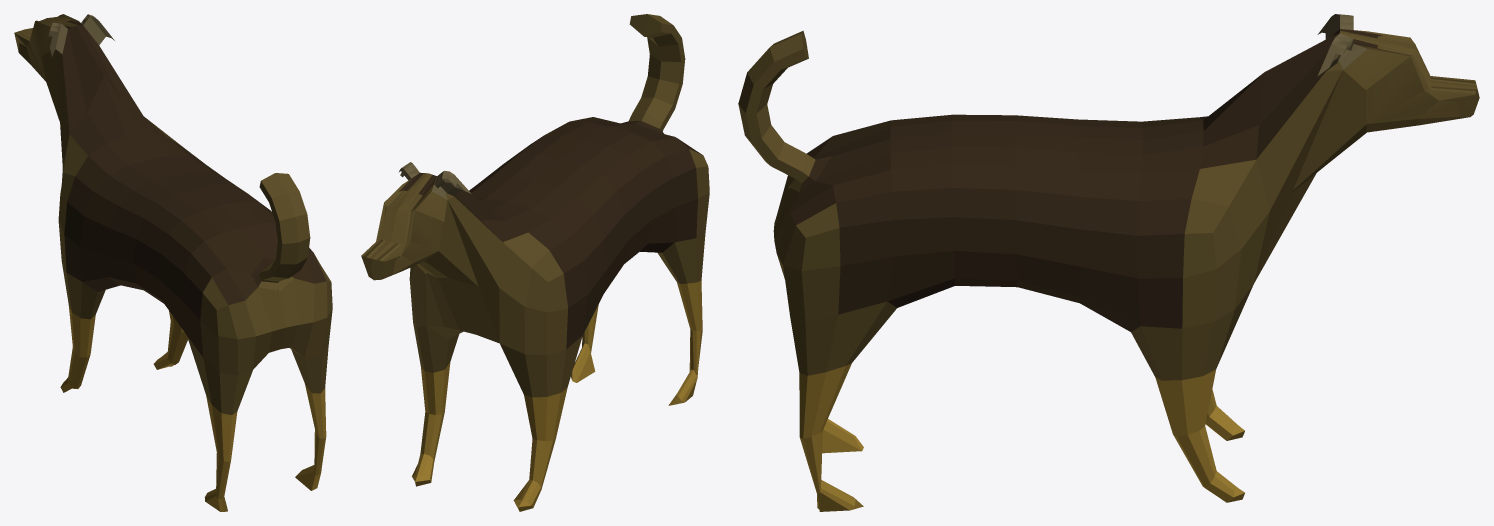
File: adriansuDogHead.glb
3 views of the same model, side by side, from view 1: azimuth 30°, elevation 25°; view 2: azimuth 150°, elevation 25°; view 3: azimuth 270°, elevation 25° (orthographic). The views are drawn at different scales.
Parts seen in each view (by area): view 1: Dog.001; view 2: Dog.001; view 3: Dog.001.
Part boxes in pixels (x1,y1,x2,y2): Dog.001: (14,14,332,511); Dog.001: (361,14,709,511); Dog.001: (738,14,1479,511).
Size of the model in its own units: 10.73 by 24.61 by 36.13.
